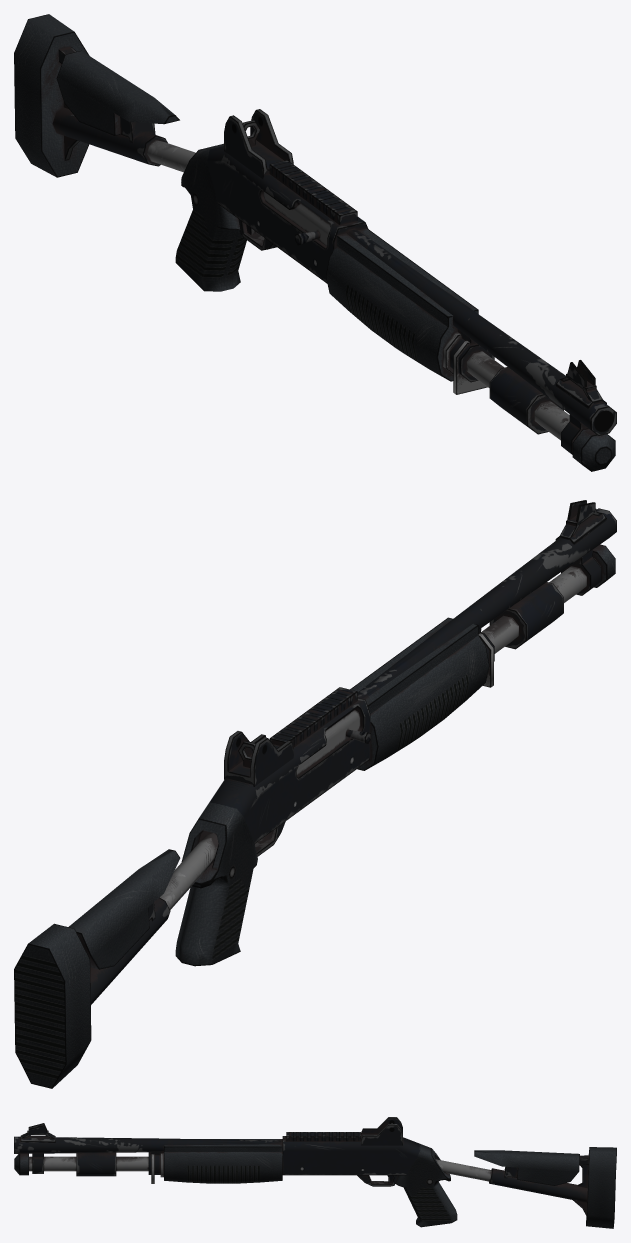
The picture shows the model from 3 angles, top to bottom: view 1: azimuth 30°, elevation 25°; view 2: azimuth 150°, elevation 25°; view 3: azimuth 270°, elevation 25°; orthographic projection. The views are drawn at different scales.
Parts seen in each view (by area): view 1: XM1014; view 2: XM1014; view 3: XM1014.
Part boxes in pixels (x1,y1,x2,y2): XM1014: (14, 14, 616, 471); XM1014: (14, 500, 616, 1088); XM1014: (14, 1117, 616, 1228).
Size of the model in its own units: 66.37 by 195 by 1015.
